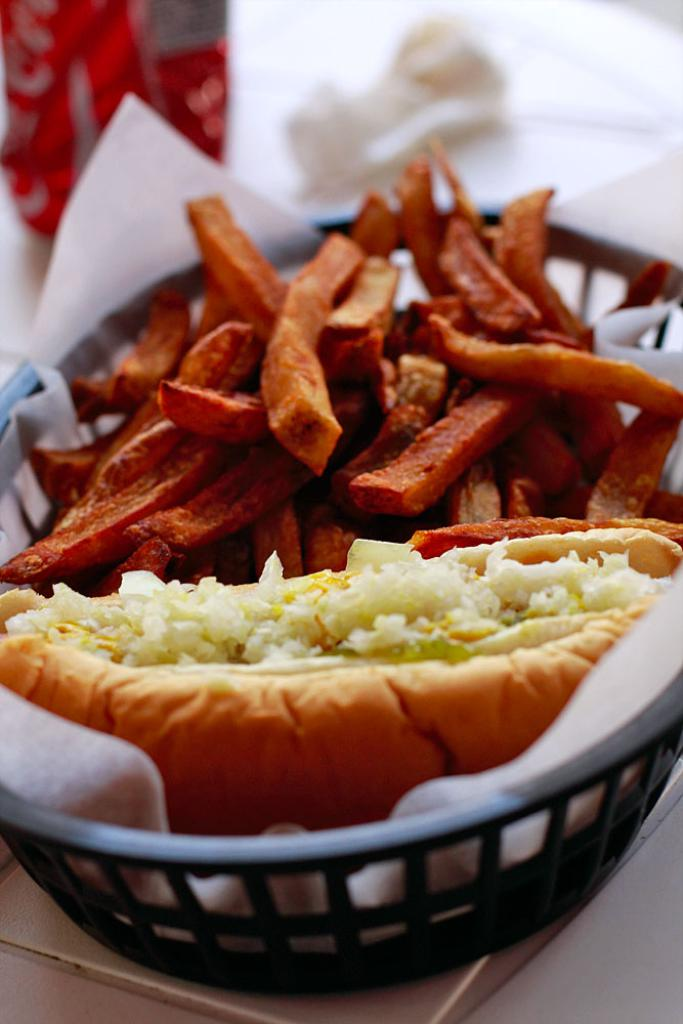French fries: (0, 130, 681, 602)
